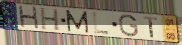G: (118, 14, 140, 38)
H: (17, 5, 41, 31), (40, 7, 60, 32)
L: (92, 12, 111, 35)
M: (64, 9, 90, 34)
T: (142, 16, 158, 39)
